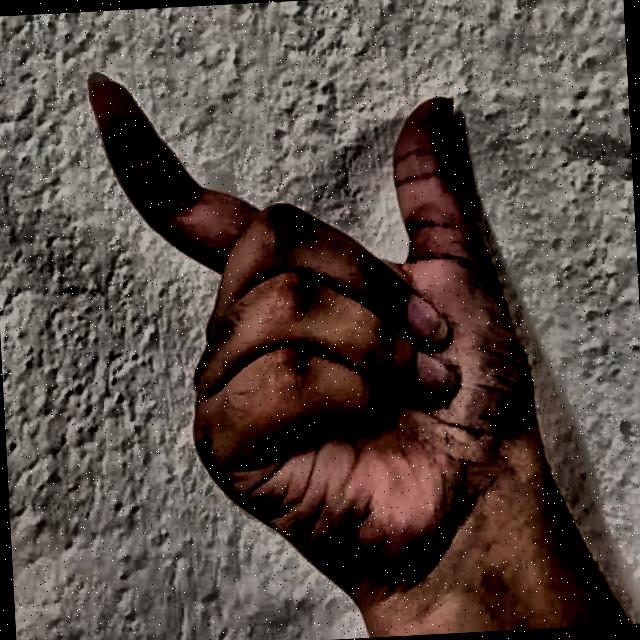ChandraBindu: (59, 9, 580, 622)
